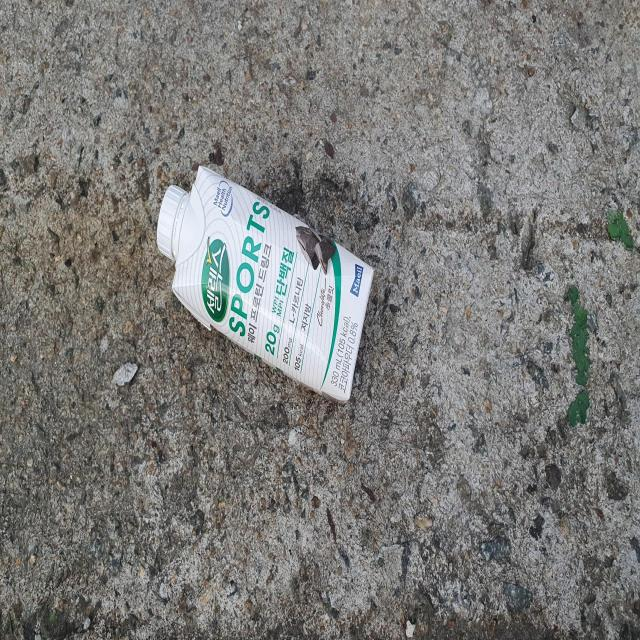paperpack: (157, 166, 374, 401)
